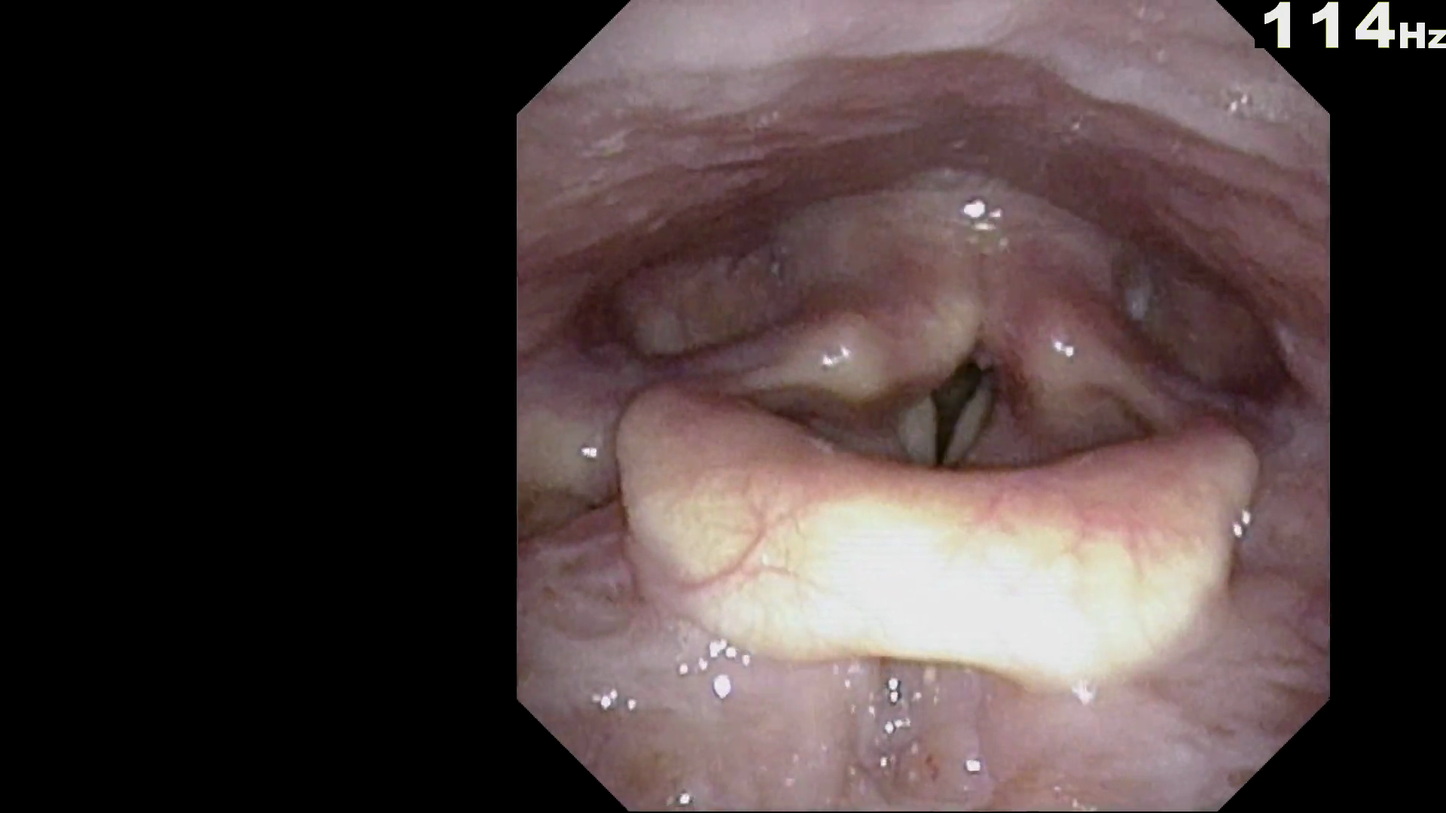epiglottis: (591, 373, 1281, 701)
trachea: (862, 301, 1041, 526)
